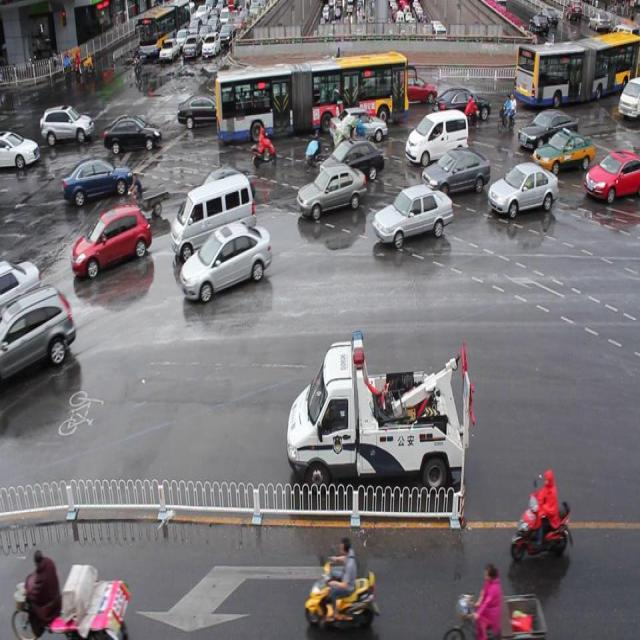bus: (287, 325, 472, 492)
car: (180, 221, 270, 299), (1, 287, 77, 376), (71, 207, 151, 274), (373, 185, 452, 244), (295, 163, 367, 217), (404, 108, 468, 166), (488, 164, 557, 214), (421, 148, 490, 194), (62, 158, 134, 200), (1, 257, 44, 327), (583, 149, 640, 201), (183, 168, 255, 209), (320, 140, 384, 181), (531, 129, 593, 171), (515, 109, 578, 148), (103, 114, 164, 152), (331, 107, 386, 145), (433, 85, 489, 121), (177, 95, 229, 128), (391, 72, 436, 105)
truck: (172, 178, 256, 265)
van: (217, 55, 407, 136), (515, 35, 640, 107)
